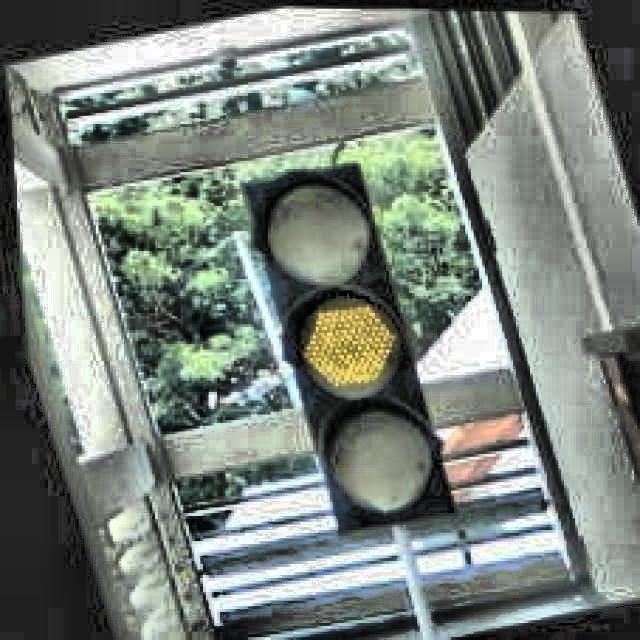yellow: (239, 182, 458, 520)
